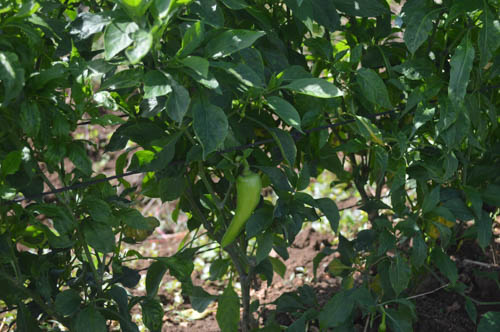ChiliPepper: (220, 174, 262, 258)
